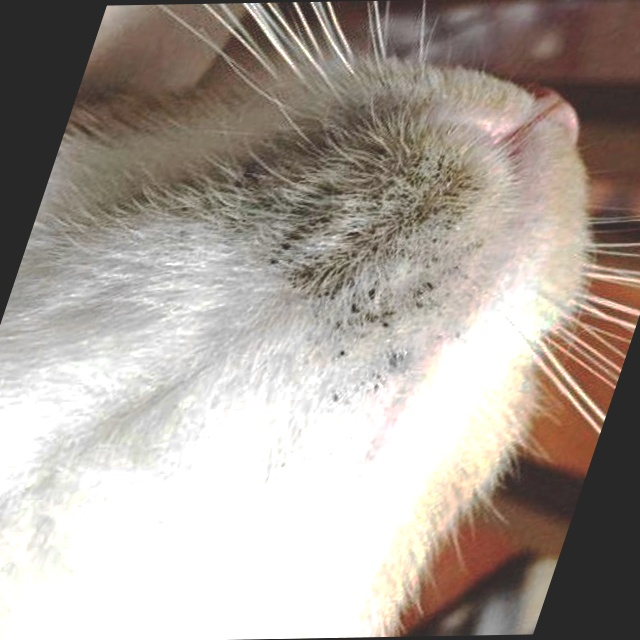acne: (168, 104, 530, 375)
